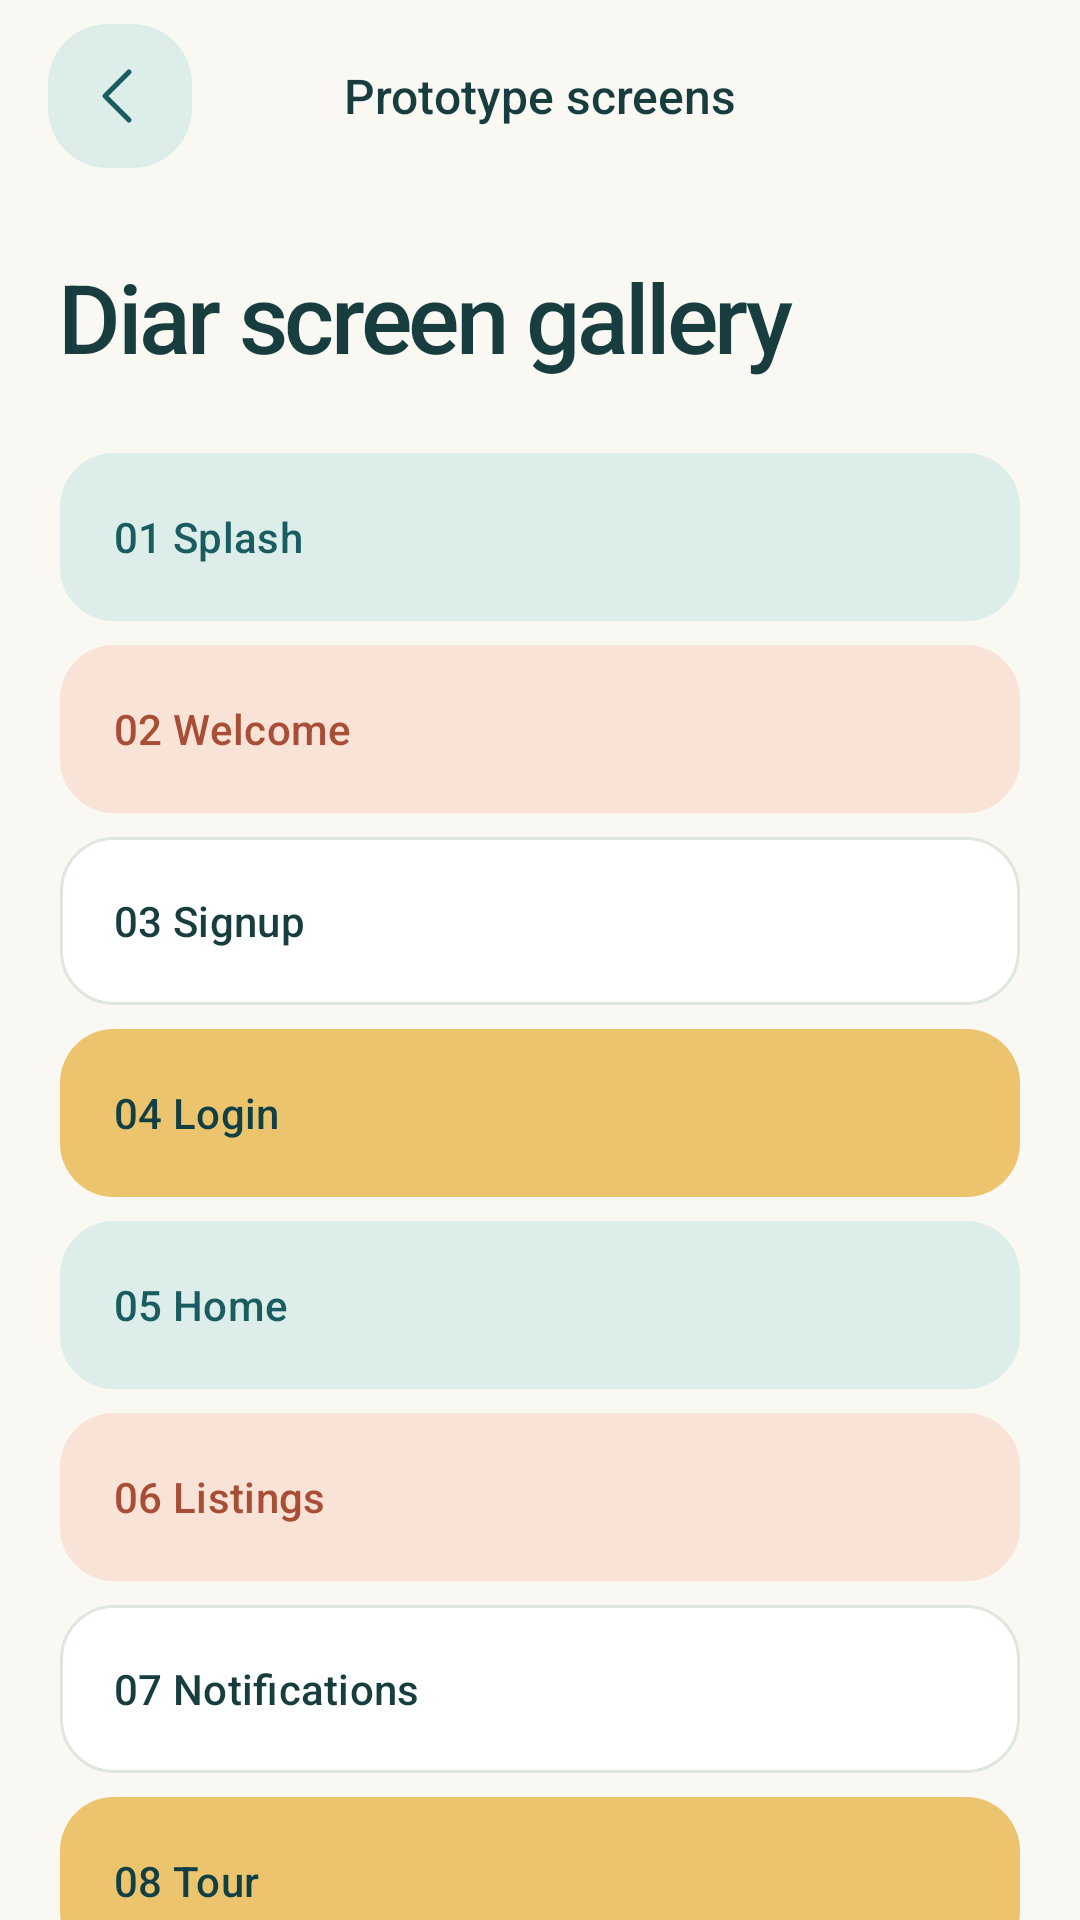

Screen size 1080x1920. Icon name, then its center in pixels as (x=x, y=y):
Go back: (x=120, y=96)
